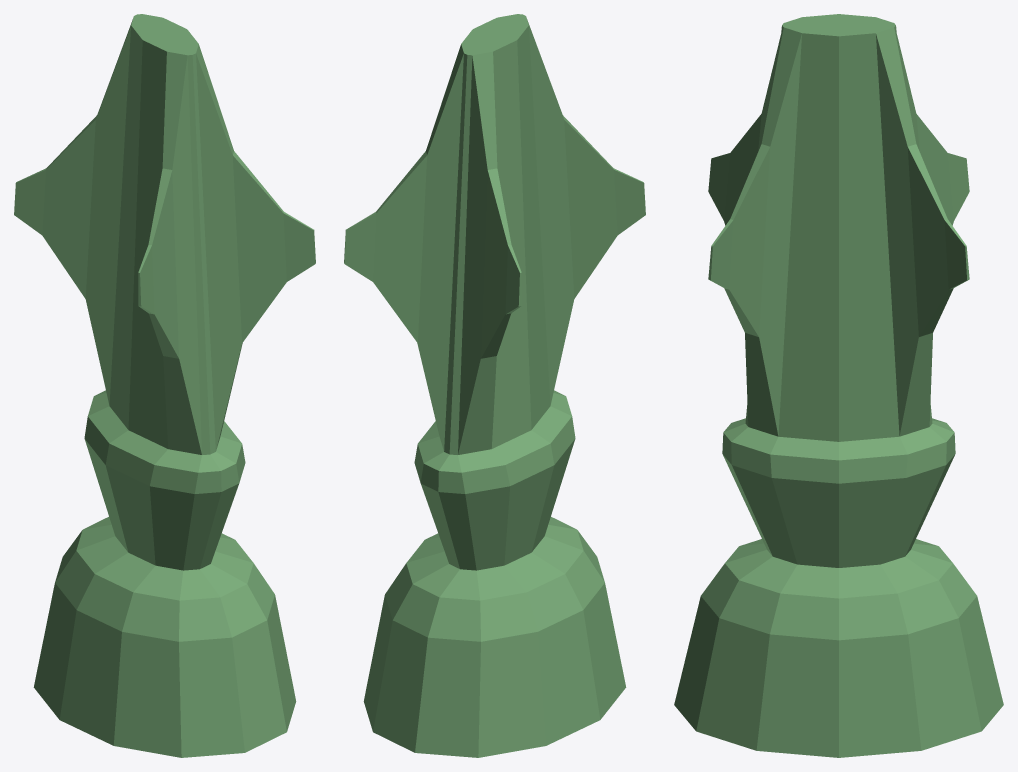
The model's file is Figure_3.fbx.
The picture shows the model from 3 angles, left to right: view 1: azimuth 30°, elevation 25°; view 2: azimuth 150°, elevation 25°; view 3: azimuth 270°, elevation 25°; orthographic projection. The views are drawn at different scales.
Visible parts, largest first — view 1: Figure_3; view 2: Figure_3; view 3: Figure_3.
Part boxes in pixels (left/top/right/bottom): Figure_3: left=14, top=14, right=315, bottom=757; Figure_3: left=344, top=14, right=645, bottom=757; Figure_3: left=674, top=14, right=1003, bottom=757.
Bounding box in the file's own units: 0.5675 × 0.7463 × 1.7.
